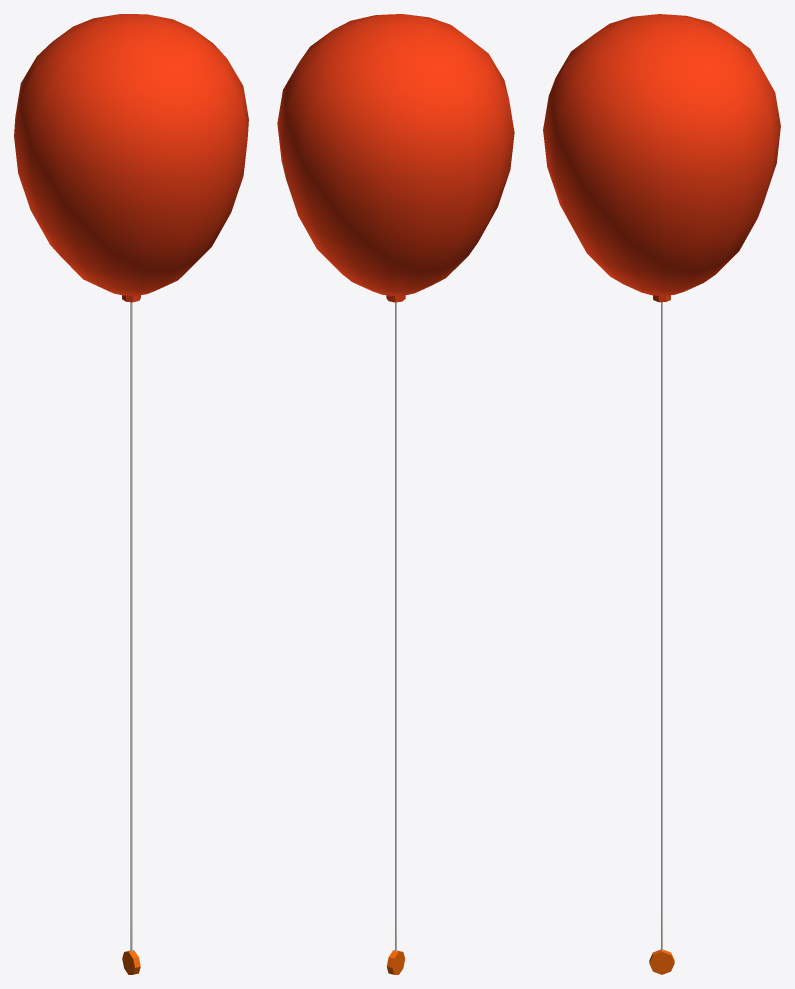
File: BalloonF.fbx
The picture shows the model from 3 angles, left to right: view 1: azimuth 30°, elevation 25°; view 2: azimuth 150°, elevation 25°; view 3: azimuth 270°, elevation 25°; orthographic projection.
Visible parts, largest first — view 1: BalloonF; view 2: BalloonF; view 3: BalloonF.
Part boxes in pixels (x1,y1,x2,y2): BalloonF: (14,14,248,974); BalloonF: (277,14,514,974); BalloonF: (543,14,780,974).
Size of the model in its own units: 275 by 1208 by 275.
